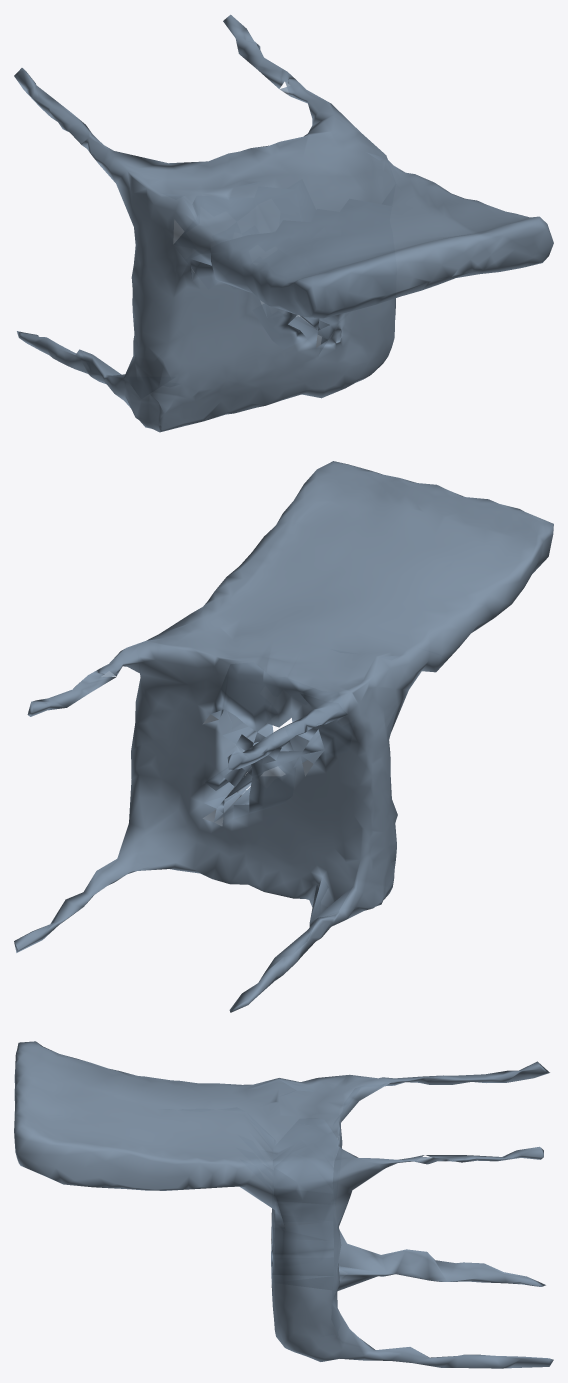
The model's file is sample_234_recon.obj.
3 renders of one model, top to bottom at view 1: azimuth 30°, elevation 25°; view 2: azimuth 150°, elevation 25°; view 3: azimuth 270°, elevation 25°, orthographic. The views are drawn at different scales.
Size of the model in its own units: 0.711 by 0.7675 by 1.54.
